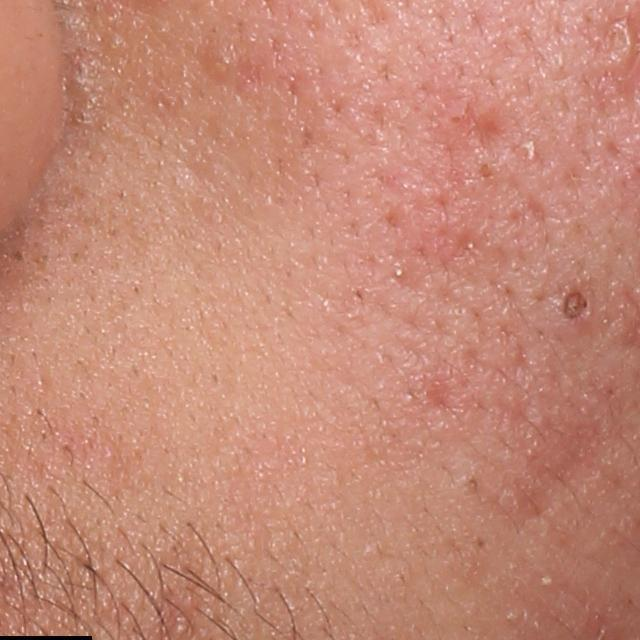atrophic_scar: (476, 91, 524, 163)
comedo: (554, 287, 594, 329), (462, 471, 488, 500), (166, 610, 192, 638)
